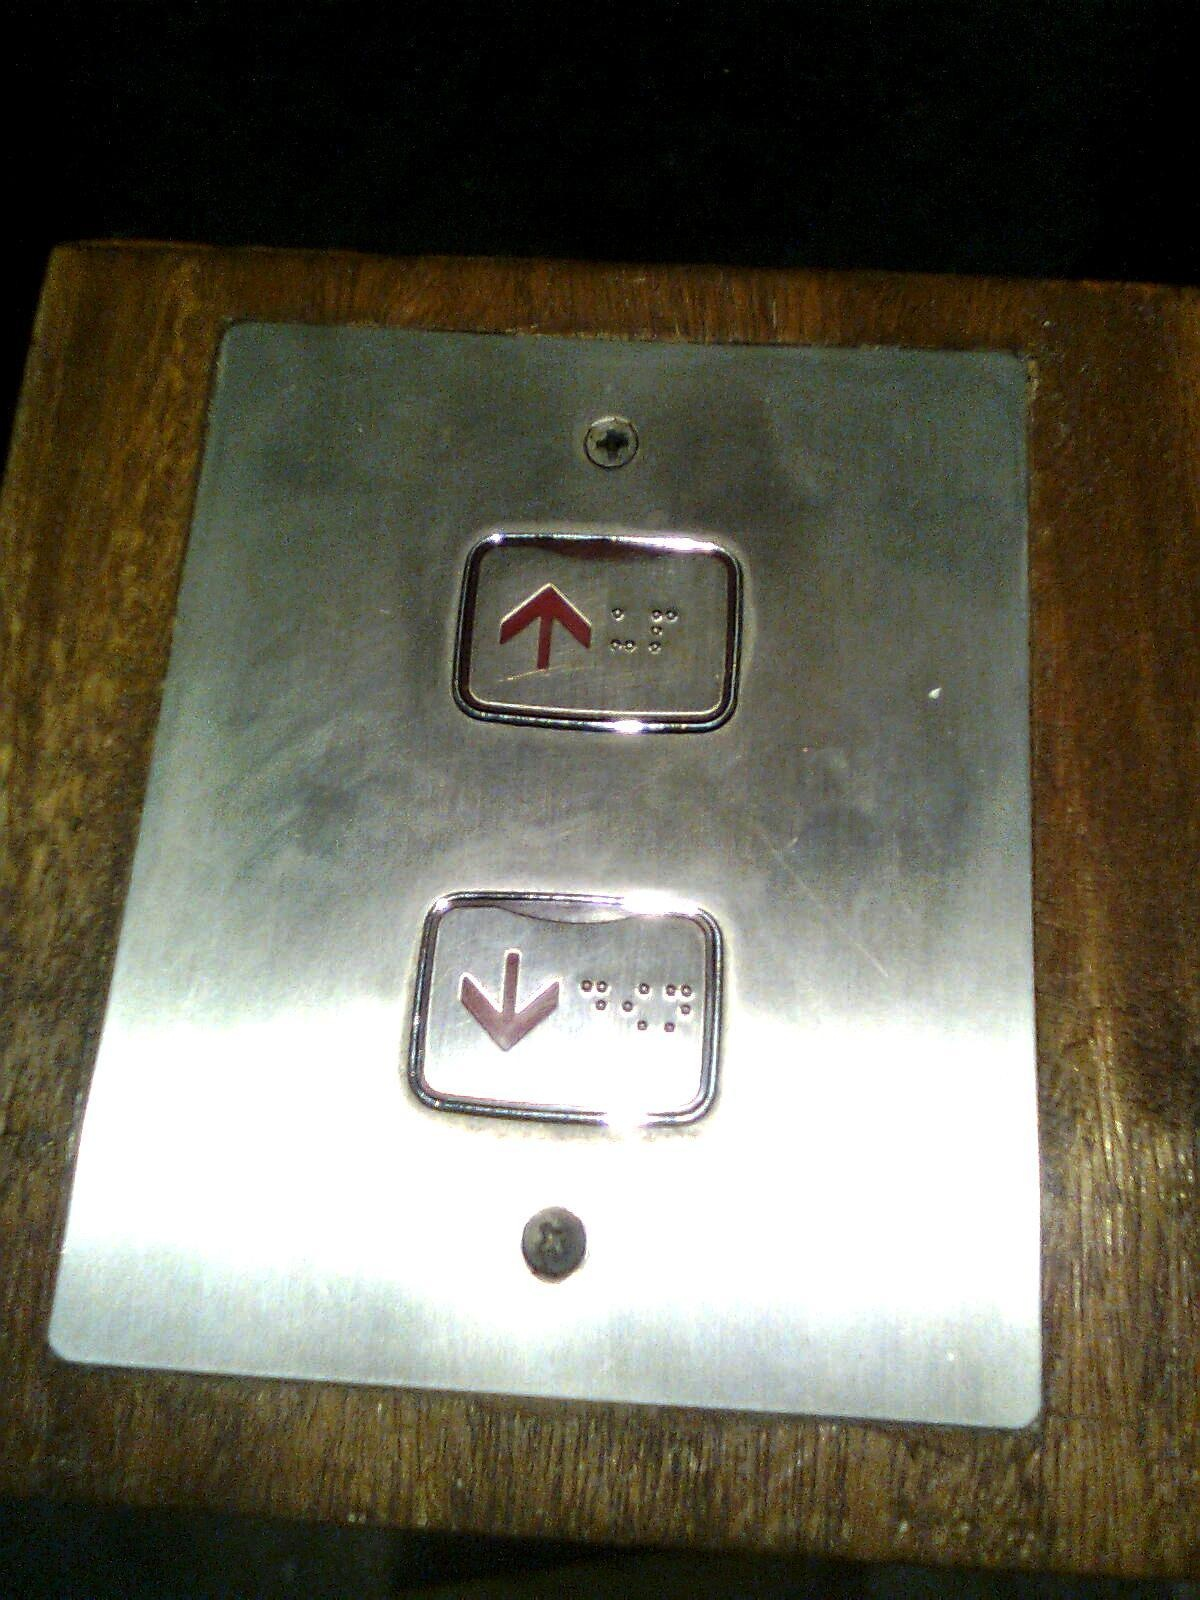down: (408, 891, 724, 1123)
up: (440, 524, 753, 736)
